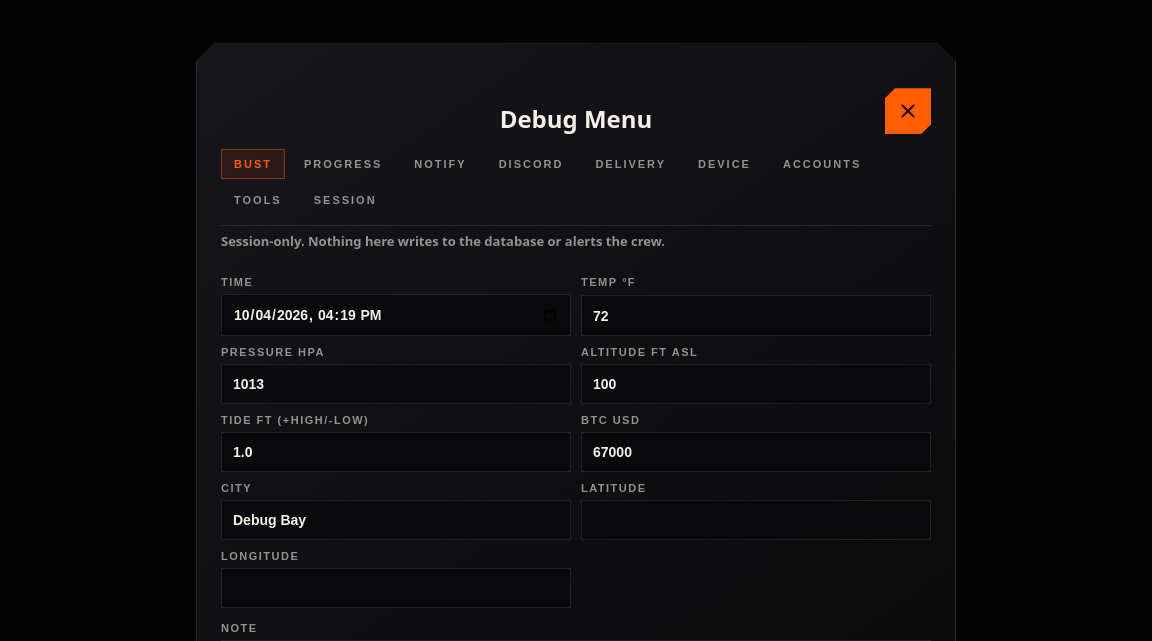
DebugMenu › resets on confirmation, reports it, and clears the field
Click the tab "ACCOUNTS".
click(822, 164)  # box [770,149,874,179]
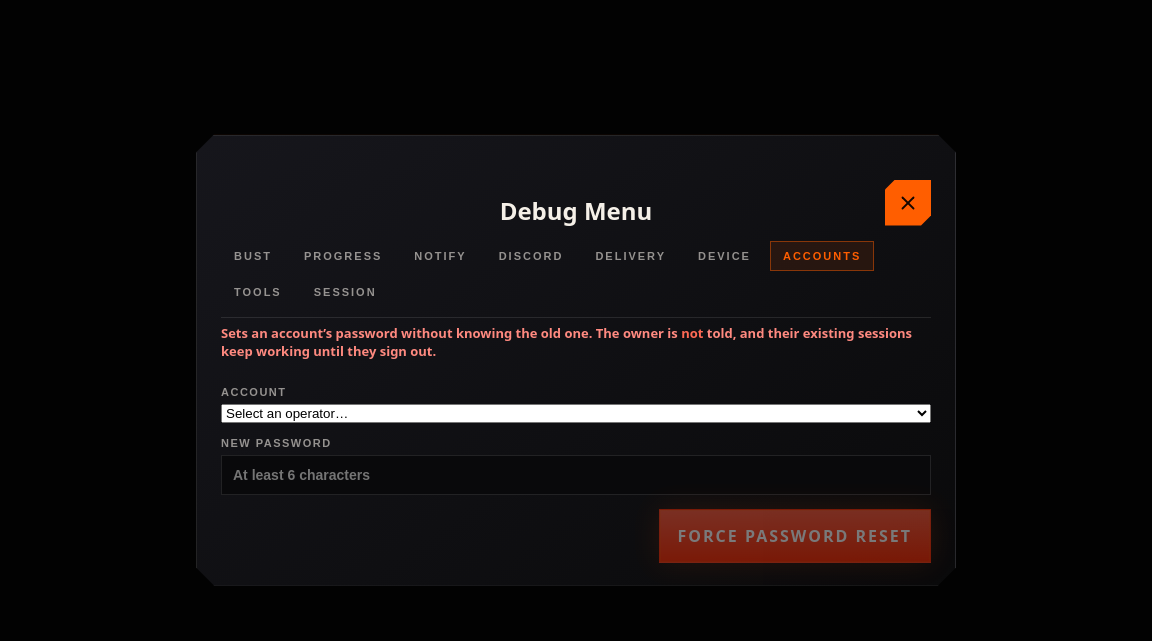
Select "Ann" in the dropdown labelled "Account" at point(576, 413), box [221,404,931,422]
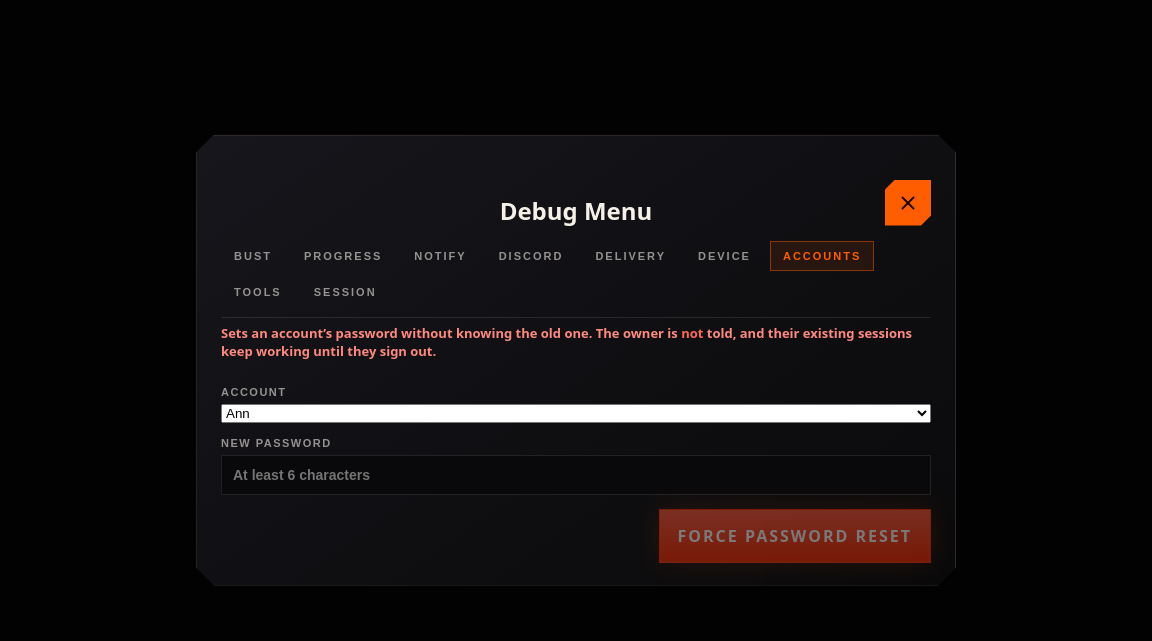
Type "long-enough" into the field labelled "New password".
click(576, 474); type("long-enough")  # box [221,454,931,494]
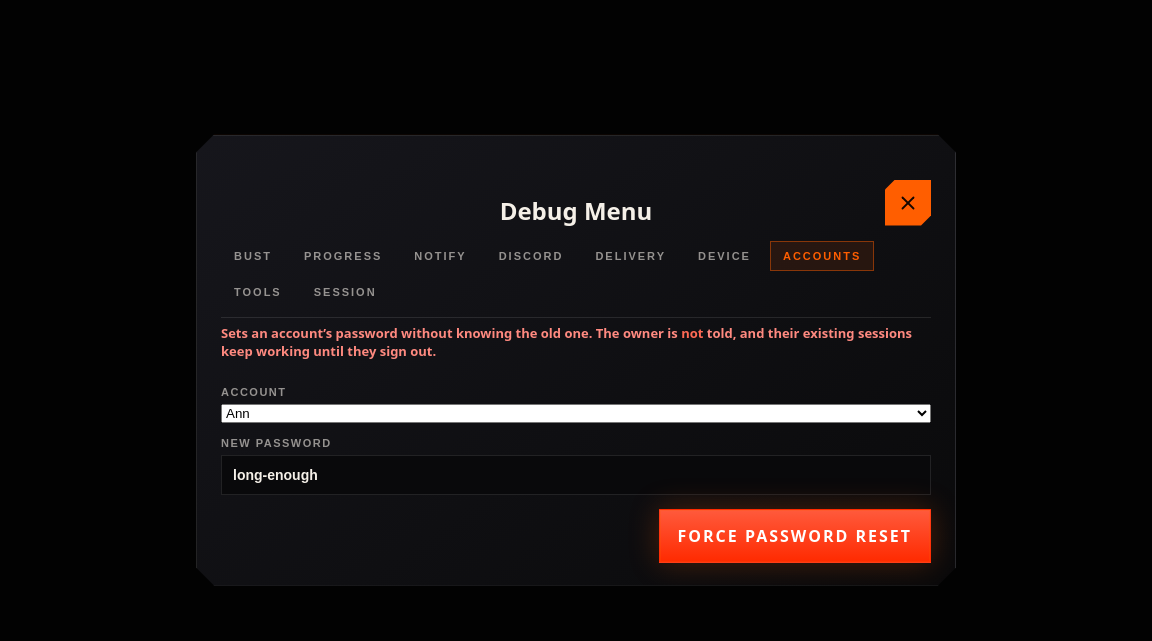
Click the button "FORCE PASSWORD RESET".
click(795, 536)  # box [658,508,931,562]
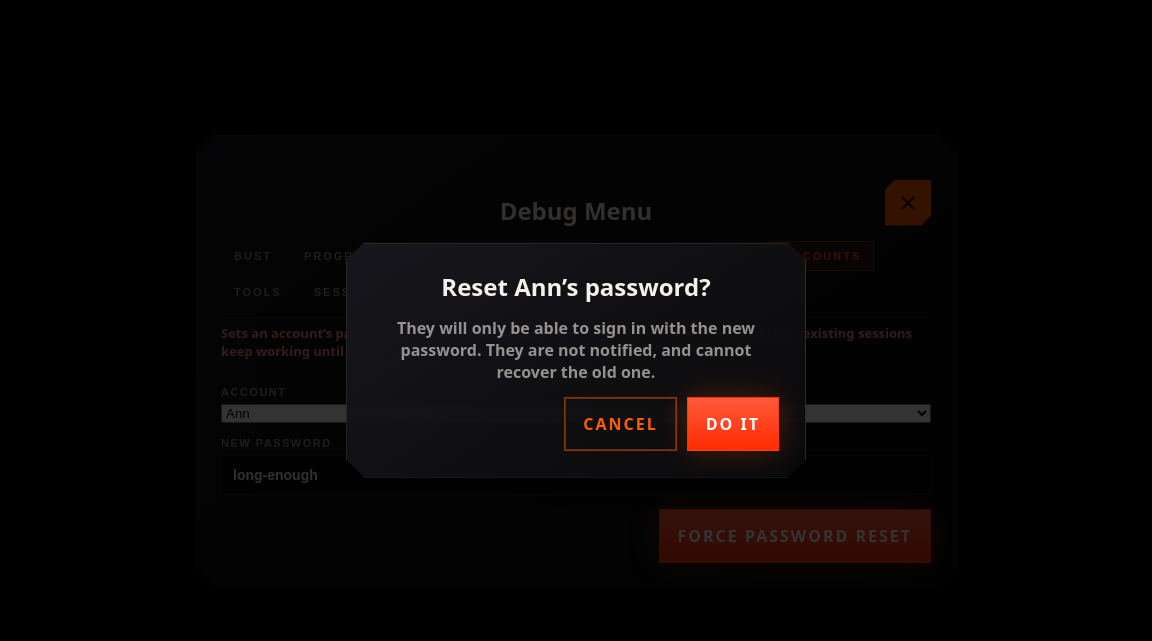
Click the button "DO IT".
click(733, 424)  # box [687,396,779,450]
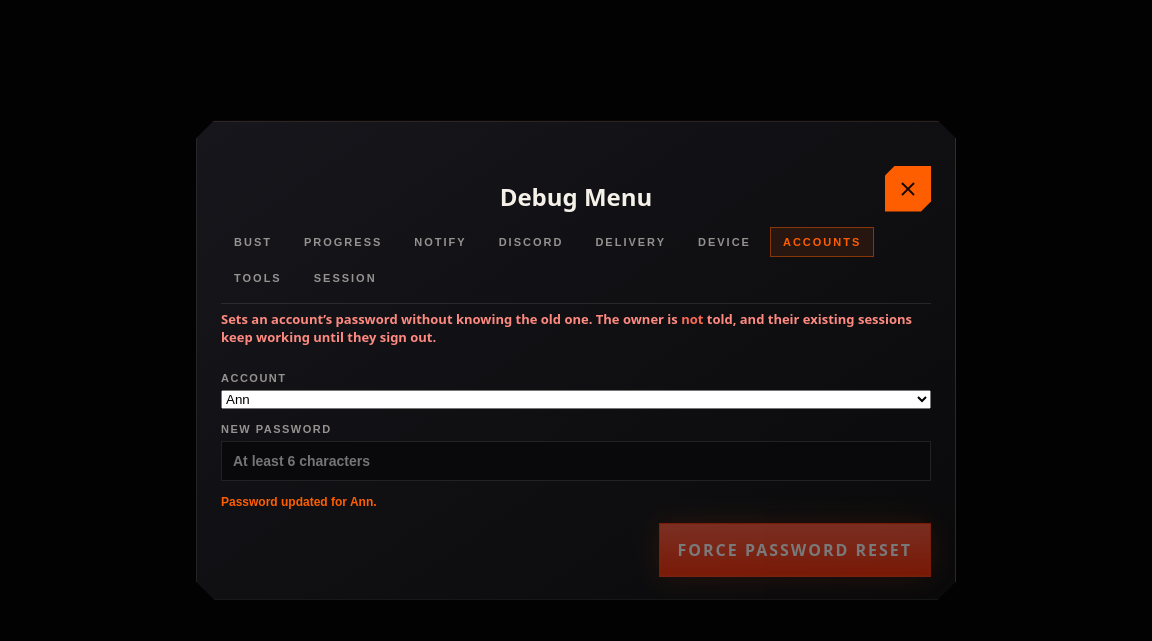
Now the text "Password updated for Ann." is shown, box [221,494,377,508]
Now the field labelled "New password" is empty, box [221,440,931,480]
